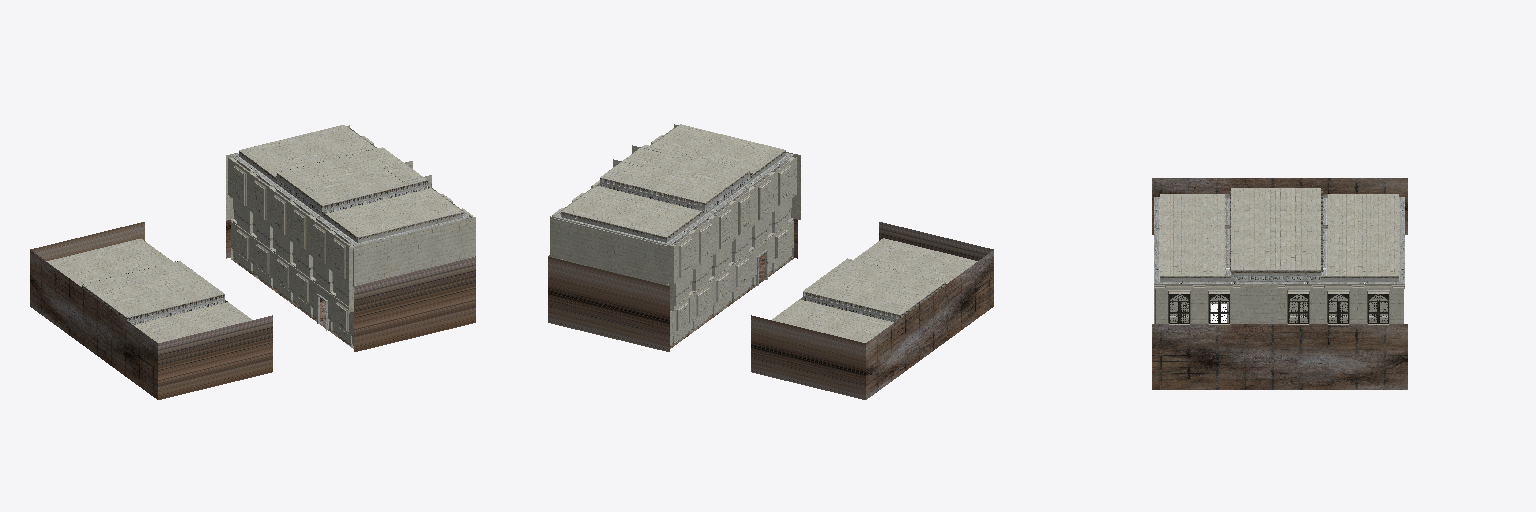
3 views of the same model, side by side, from view 1: azimuth 30°, elevation 25°; view 2: azimuth 150°, elevation 25°; view 3: azimuth 270°, elevation 25° (orthographic).
Visible parts, largest first — view 1: mesh4, mesh0, mesh1, mesh5, mesh9, mesh6; view 2: mesh4, mesh0, mesh1, mesh5, mesh9, mesh6; view 3: mesh4, mesh0, mesh1, mesh8, mesh6, mesh9.
Boxes of the visible parts, <box> form: mesh4: <box>46,125,475,342</box>; mesh0: <box>30,220,475,399</box>; mesh1: <box>82,149,470,330</box>; mesh5: <box>230,136,474,344</box>; mesh9: <box>234,168,345,330</box>; mesh6: <box>231,132,470,345</box>; mesh4: <box>550,124,977,342</box>; mesh0: <box>548,219,993,399</box>; mesh1: <box>554,146,945,321</box>; mesh5: <box>552,135,794,344</box>; mesh9: <box>679,167,790,329</box>; mesh6: <box>556,132,793,345</box>; mesh4: <box>1154,188,1403,323</box>; mesh0: <box>1152,178,1407,389</box>; mesh1: <box>1154,189,1404,322</box>; mesh8: <box>1169,294,1388,323</box>; mesh6: <box>1154,284,1404,322</box>; mesh9: <box>1170,296,1387,315</box>.
Size of the model in its own units: 29.79 by 10.19 by 20.4.
11 materials, 10 textured.